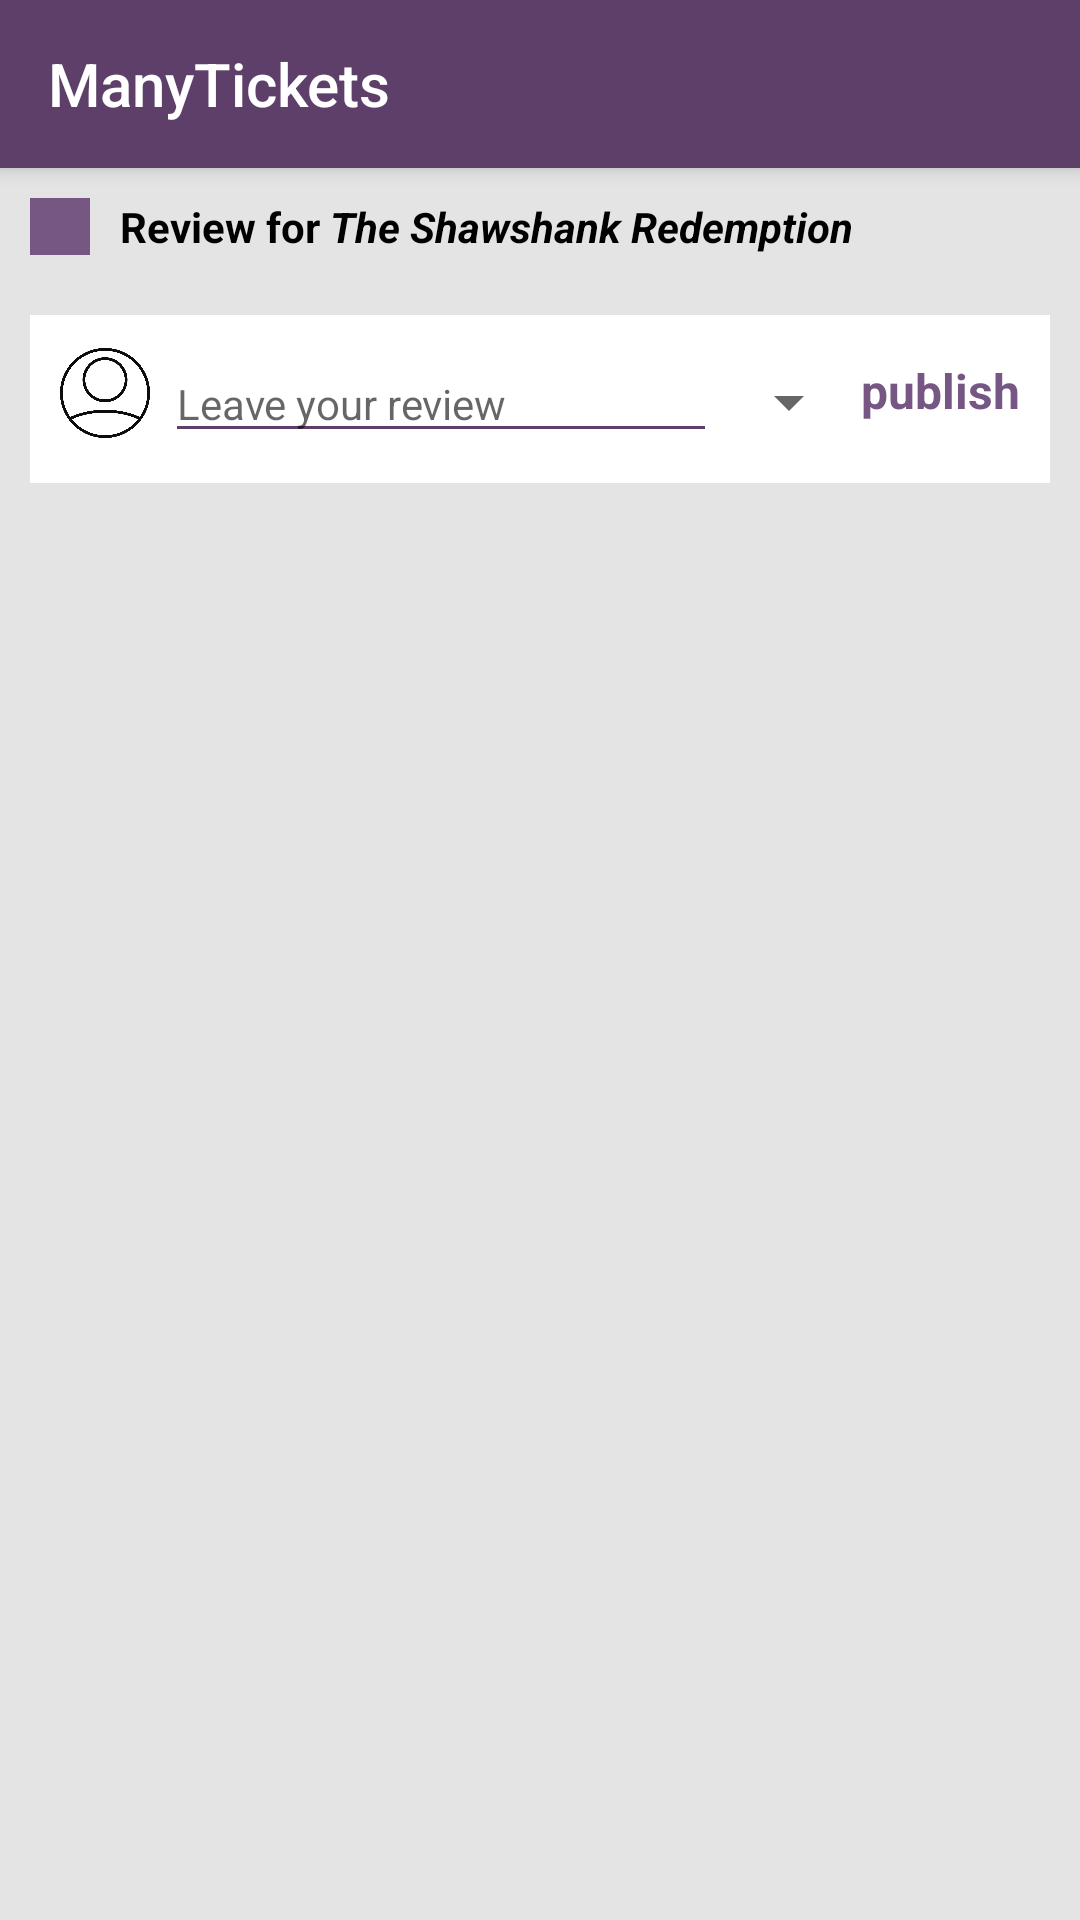

Named icons in this screenshot (1080px x 1920px) and their centers, (x,y):
user: (105,393)
